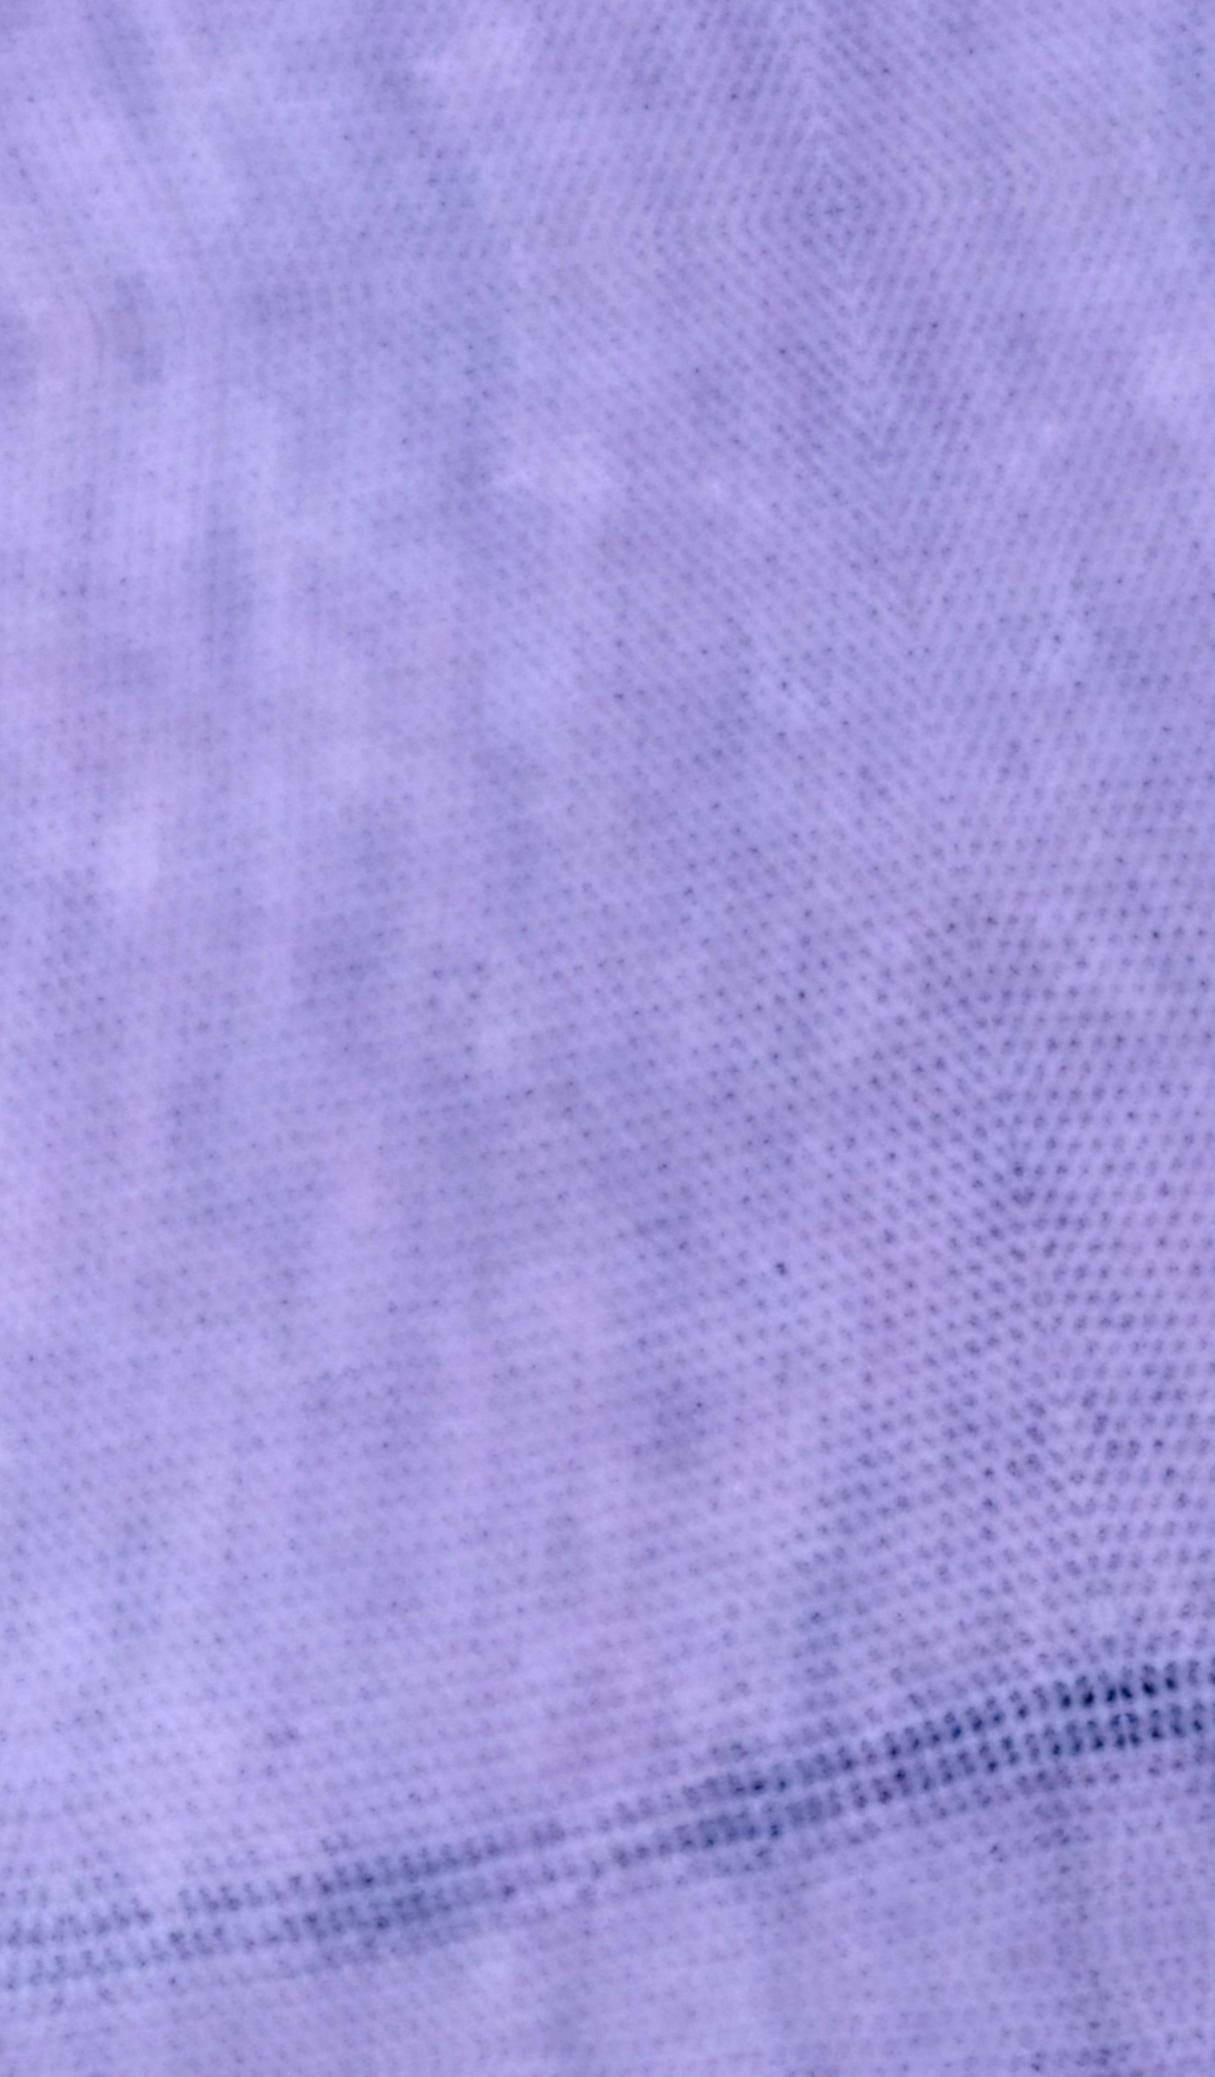slub: (1, 1626, 1209, 2077)
